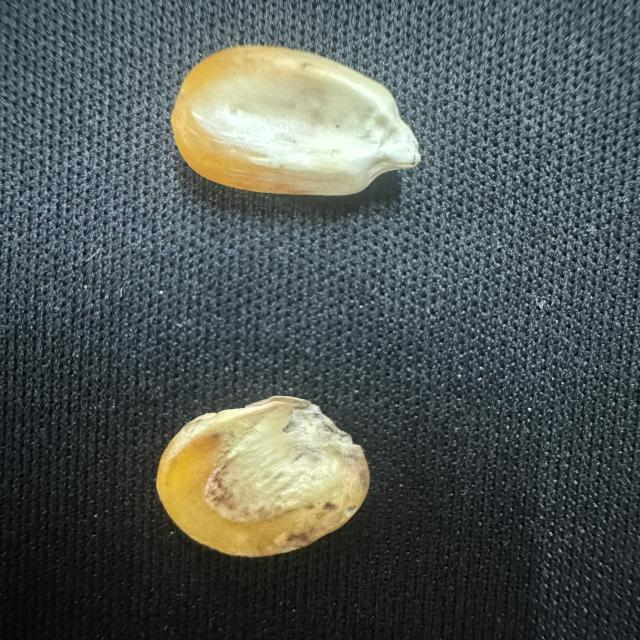Bad-Seed: (150, 390, 378, 561)
Good-Seed: (168, 39, 430, 205)
